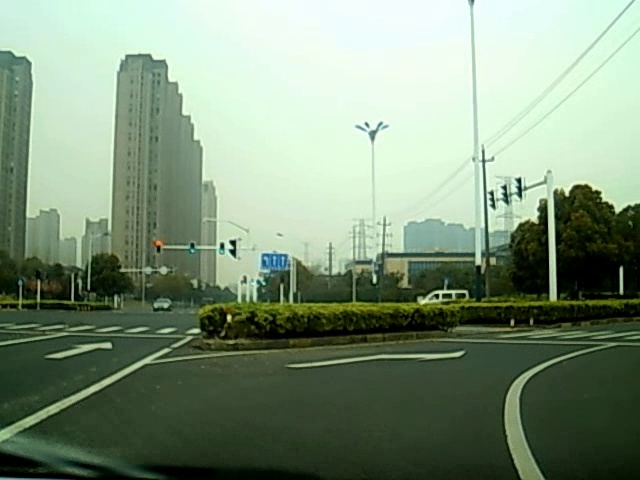Traffic_Light_go: (188, 240, 197, 255), (218, 241, 227, 256)
Traffic_Light_stop: (154, 239, 163, 255)
